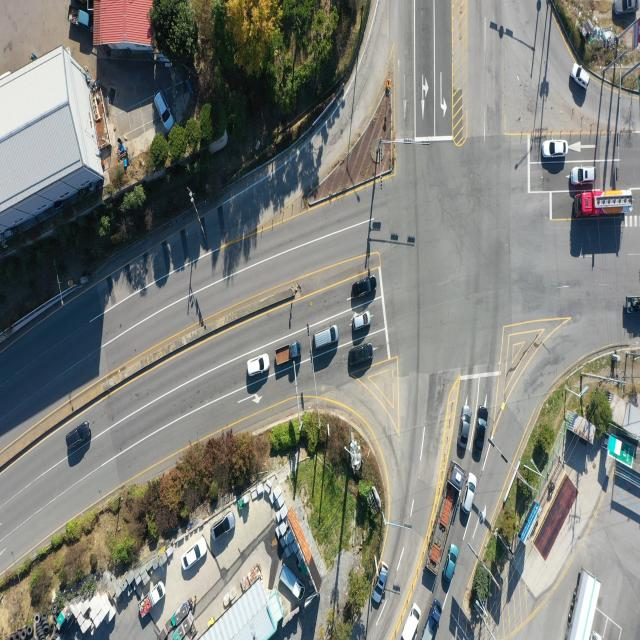car: (181, 535, 208, 576), (399, 604, 424, 640), (474, 408, 489, 463), (67, 422, 92, 454), (156, 90, 175, 131), (374, 563, 390, 606), (312, 324, 338, 350), (348, 343, 374, 368), (462, 471, 477, 514), (212, 512, 235, 539), (352, 276, 376, 300), (459, 406, 471, 452), (247, 354, 270, 377), (445, 544, 459, 581), (543, 140, 569, 158), (571, 64, 589, 90), (571, 168, 595, 185), (352, 311, 372, 331), (614, 0, 638, 16)
medium_truck: (424, 463, 465, 580), (565, 568, 601, 638), (578, 192, 634, 218)
small_truck: (139, 582, 168, 623), (280, 563, 304, 604), (424, 599, 443, 640), (275, 341, 303, 367), (66, 2, 90, 28), (626, 298, 640, 314)
